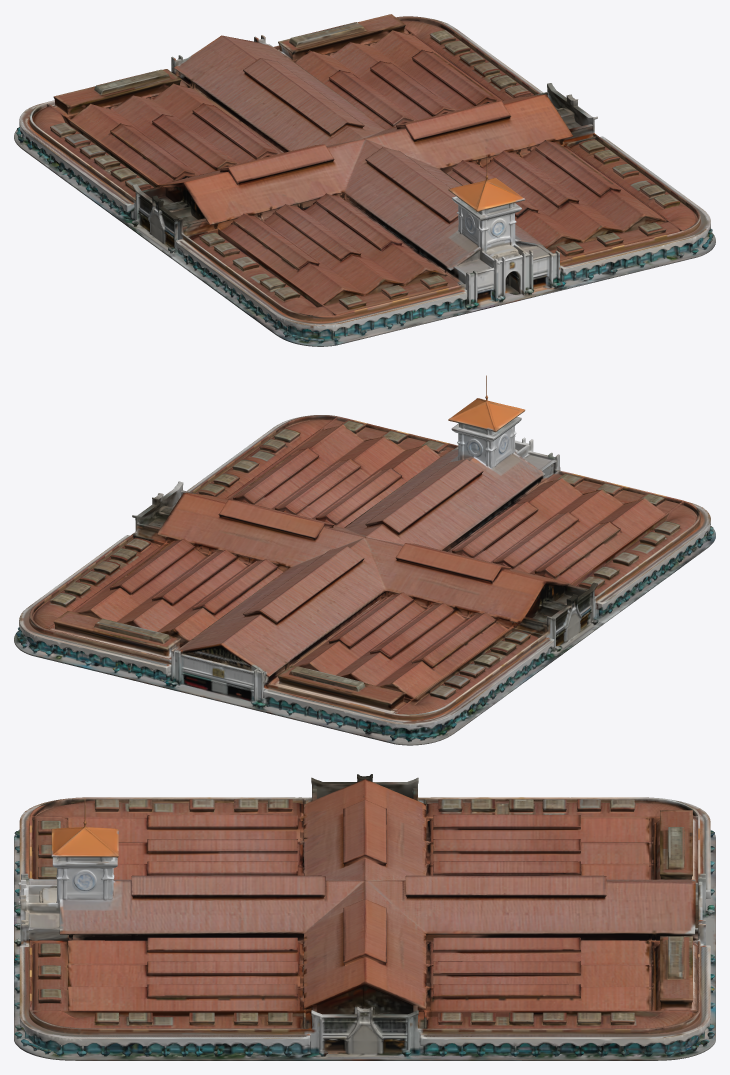
Rendered from chobenthanh-v1.glb.
The picture shows the model from 3 angles, top to bottom: view 1: azimuth 30°, elevation 25°; view 2: azimuth 150°, elevation 25°; view 3: azimuth 270°, elevation 25°; orthographic projection. The views are drawn at different scales.
Parts seen in each view (by area): view 1: node_0; view 2: node_0; view 3: node_0.
Boxes of the visible parts, left/top/right/bottom form: node_0: left=14, top=14, right=715, bottom=346; node_0: left=14, top=375, right=715, bottom=745; node_0: left=14, top=774, right=715, bottom=1060.
Bounding box in the file's own units: 0.787 × 0.2152 × 0.9625.
1 material, 1 textured.
